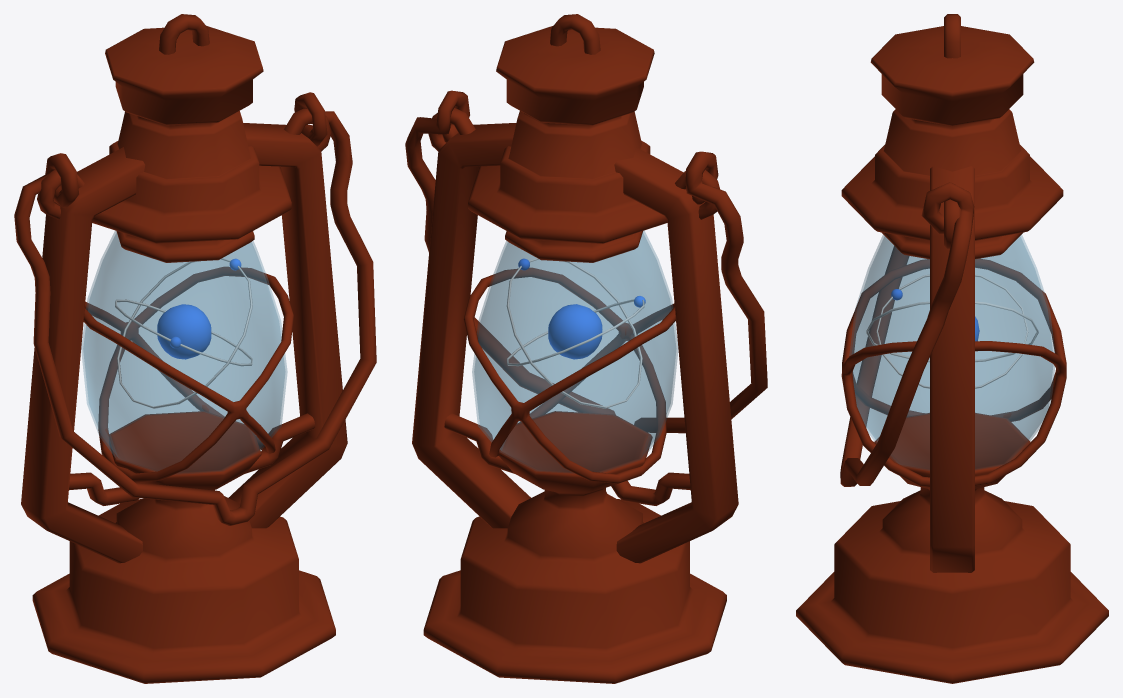
File: lantern.obj
3 views of the same model, side by side, from view 1: azimuth 30°, elevation 25°; view 2: azimuth 150°, elevation 25°; view 3: azimuth 270°, elevation 25° (orthographic).
Visible parts, largest first — view 1: Lantern; view 2: Lantern; view 3: Lantern.
Boxes of the visible parts, box(x1,y1,x2,y2) form: Lantern: box(14, 14, 376, 683); Lantern: box(405, 14, 767, 683); Lantern: box(796, 14, 1108, 683).
Size of the model in its own units: 0.4639 by 0.7951 by 0.3735.
